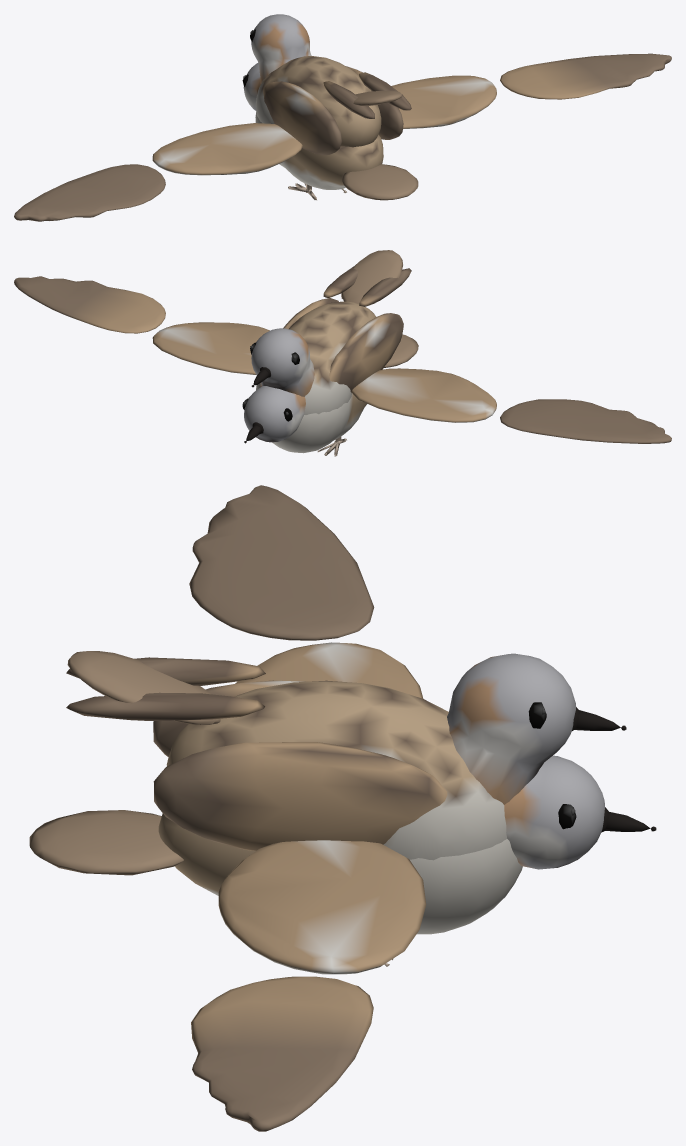
The model's file is sparrow_parts.glb.
3 views of the same model, one above another, from view 1: azimuth 30°, elevation 25°; view 2: azimuth 150°, elevation 25°; view 3: azimuth 270°, elevation 25° (orthographic). The views are drawn at different scales.
Visible parts, largest first — view 1: WING_L, WINGTIP_R__WING_R, WINGTIP_L__WING_L, BODY, BODY1, WING_R, BODY.001, HEAD, TAIL.001, BODY3, TAIL, HEAD.001; view 2: WING_L, WINGTIP_L__WING_L, WINGTIP_R__WING_R, BODY, WING_R, BODY1, HEAD, HEAD.001, BODY.001, TAIL, BODY3, TAIL.001; view 3: BODY3, WING_R, BODY, WINGTIP_R__WING_R, WINGTIP_L__WING_L, HEAD, BODY.001, HEAD.001, TAIL.001, WING_L, TAIL, BODY1.
Part boxes in pixels (x1,y1,x2,y2): WING_L: (152, 123, 302, 175); WINGTIP_R__WING_R: (500, 53, 671, 99); WINGTIP_L__WING_L: (14, 164, 165, 221); BODY: (256, 56, 381, 147); BODY1: (263, 81, 374, 155); WING_R: (391, 75, 496, 128); BODY.001: (255, 111, 383, 189); HEAD: (251, 14, 311, 83); TAIL.001: (342, 164, 418, 200); BODY3: (346, 66, 411, 139); TAIL: (353, 90, 402, 105); HEAD.001: (243, 63, 260, 110); WING_L: (351, 368, 496, 422); WINGTIP_L__WING_L: (500, 399, 671, 443); WINGTIP_R__WING_R: (14, 276, 165, 333); BODY: (256, 301, 375, 414); WING_R: (152, 322, 269, 374); BODY1: (329, 268, 411, 392); HEAD: (251, 328, 314, 396); HEAD.001: (244, 386, 305, 442); BODY.001: (272, 368, 383, 453); TAIL: (341, 250, 402, 306); BODY3: (283, 266, 357, 328); TAIL.001: (383, 334, 418, 367); BODY3: (66, 692, 447, 850); WING_R: (218, 840, 426, 974); BODY: (166, 680, 507, 860); WINGTIP_R__WING_R: (191, 976, 373, 1131); WINGTIP_L__WING_L: (189, 485, 374, 640); HEAD: (447, 653, 575, 804); BODY.001: (158, 813, 522, 934); HEAD.001: (504, 755, 604, 869); TAIL.001: (29, 810, 183, 875); WING_L: (235, 642, 423, 698); TAIL: (67, 651, 220, 724); BODY1: (66, 657, 305, 756).
Size of the model in its own units: 0.4431 by 0.0927 by 0.1832.
